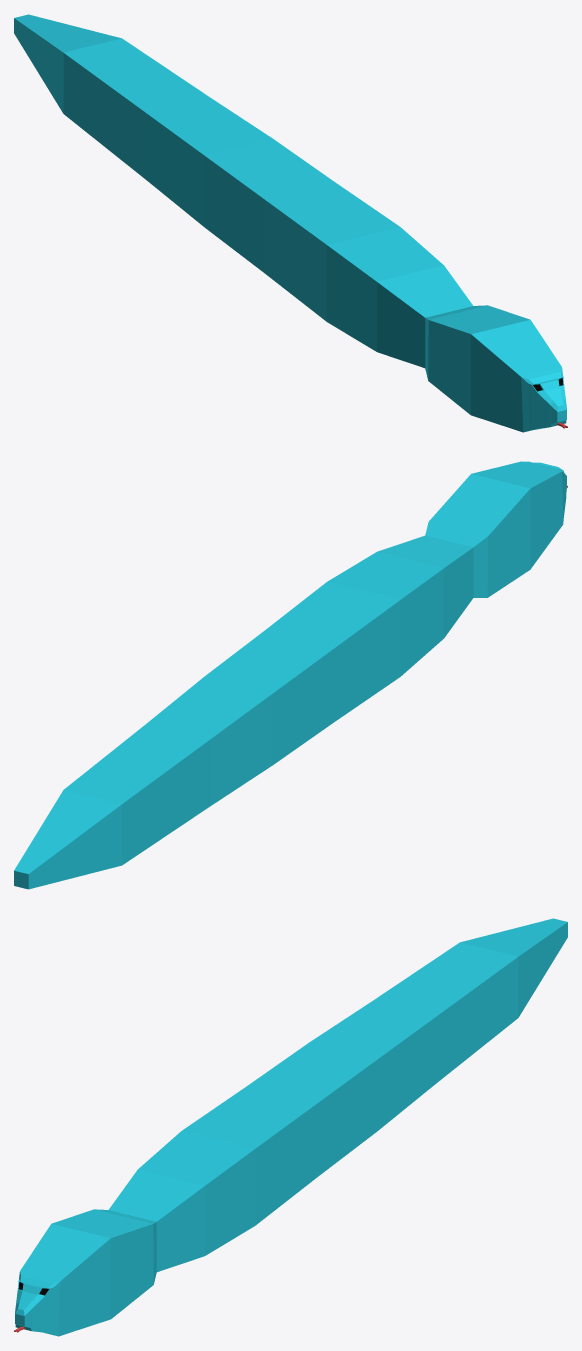
File: obj_snake2.fbx
3 renders of one model, top to bottom at view 1: azimuth 30°, elevation 25°; view 2: azimuth 150°, elevation 25°; view 3: azimuth 330°, elevation 25°, orthographic.
Parts seen in each view (by area): view 1: char_snake2; view 2: char_snake2; view 3: char_snake2.
Boxes of the visible parts, bbox=[...] form: char_snake2: bbox=[14, 14, 567, 432]; char_snake2: bbox=[14, 461, 567, 889]; char_snake2: bbox=[14, 918, 567, 1336].
Bounding box in the file's own units: 219 × 246 × 2809.
